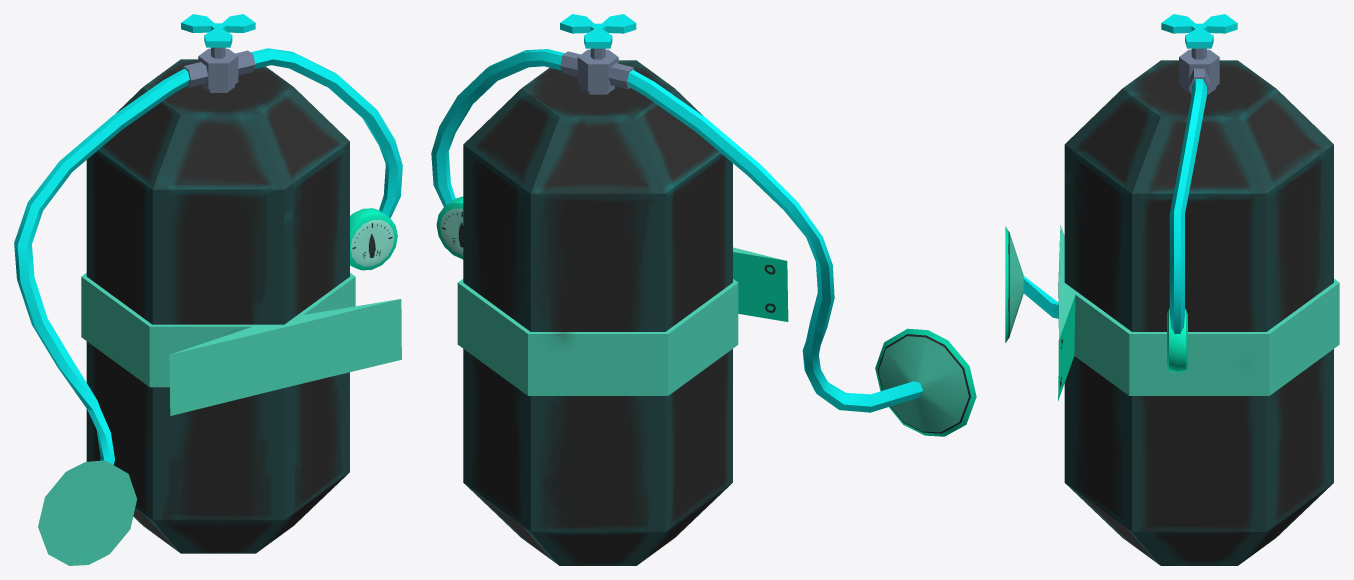
The model's file is Energybottle.fbx.
The picture shows the model from 3 angles, left to right: view 1: azimuth 30°, elevation 25°; view 2: azimuth 150°, elevation 25°; view 3: azimuth 270°, elevation 25°; orthographic projection. The views are drawn at different scales.
Visible parts, largest first — view 1: Circle; view 2: Circle; view 3: Circle.
Part boxes in pixels (x1,y1,x2,y2): Circle: (14,14,402,565); Circle: (431,14,976,565); Circle: (1005,14,1339,565).
Bounding box in the file's own units: 52.12 × 55.67 × 33.
